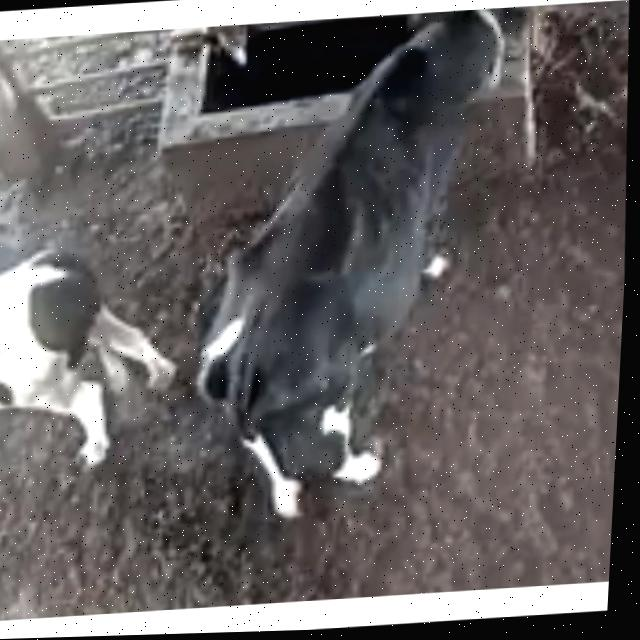drink: (293, 6, 527, 132)
